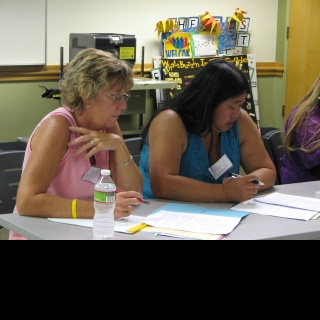without_mask: (93, 79, 130, 128), (213, 92, 248, 131)
